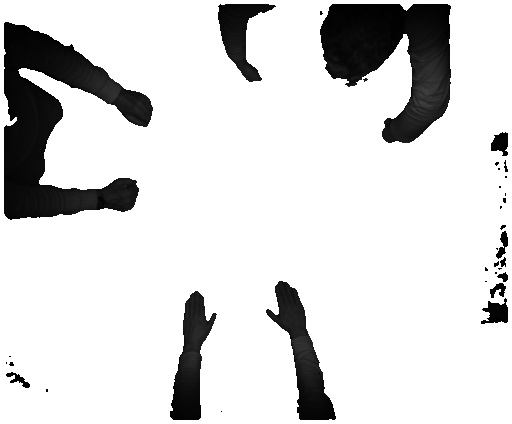fist: (103, 176, 143, 215), (119, 92, 159, 127), (239, 63, 263, 87)
hand: (176, 290, 223, 344), (264, 280, 311, 333)
